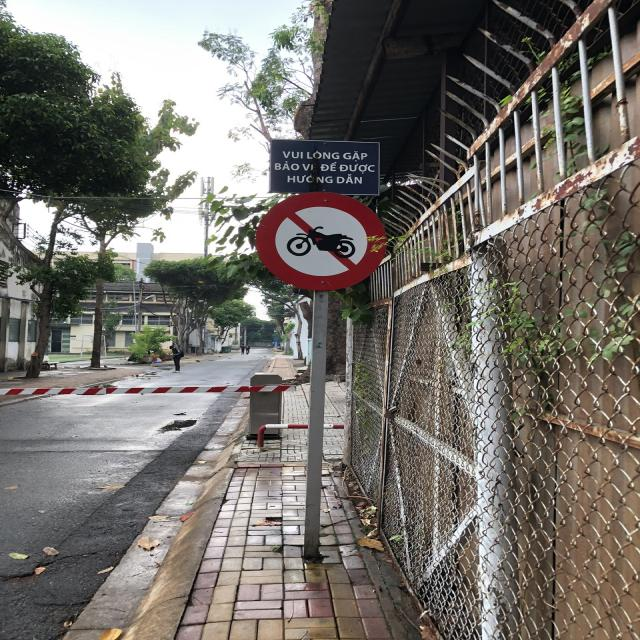Bien bao cam xe may: (255, 191, 392, 296)
